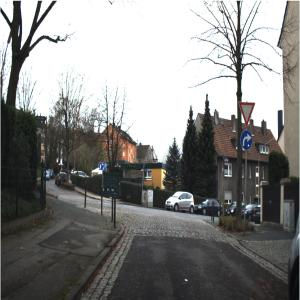give way: (239, 103, 256, 129)
go right: (242, 131, 254, 152)
